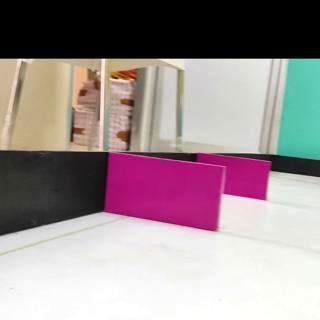xparking: (104, 153, 224, 231), (226, 156, 270, 200)
